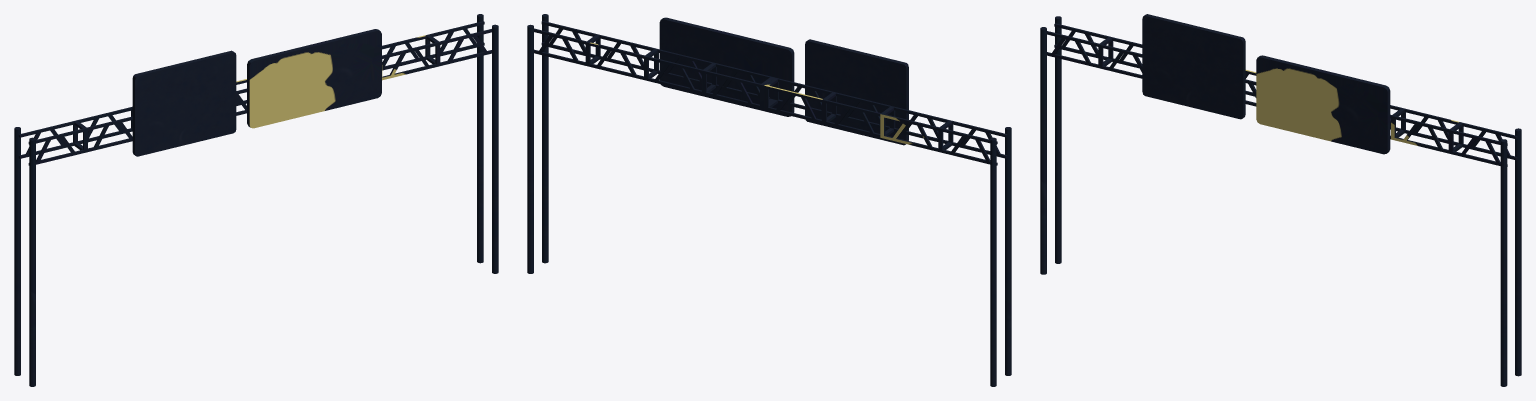
Rendered from HighwaySign_Static.fbx.
3 renders of one model, left to right at view 1: azimuth 30°, elevation 25°; view 2: azimuth 150°, elevation 25°; view 3: azimuth 330°, elevation 25°, orthographic.
Visible parts, largest first — view 1: ExportHighwaySign; view 2: ExportHighwaySign; view 3: ExportHighwaySign.
Part boxes in pixels (x1,y1,x2,y2): ExportHighwaySign: (14, 14, 498, 386); ExportHighwaySign: (527, 14, 1011, 386); ExportHighwaySign: (1040, 14, 1521, 386).
Bounding box in the file's own units: 4.17 × 2.43 × 0.2793.
